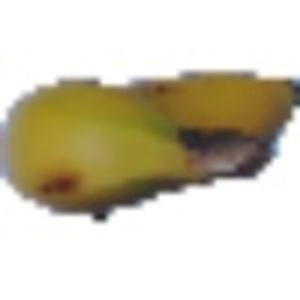banana: (4, 66, 292, 219)
